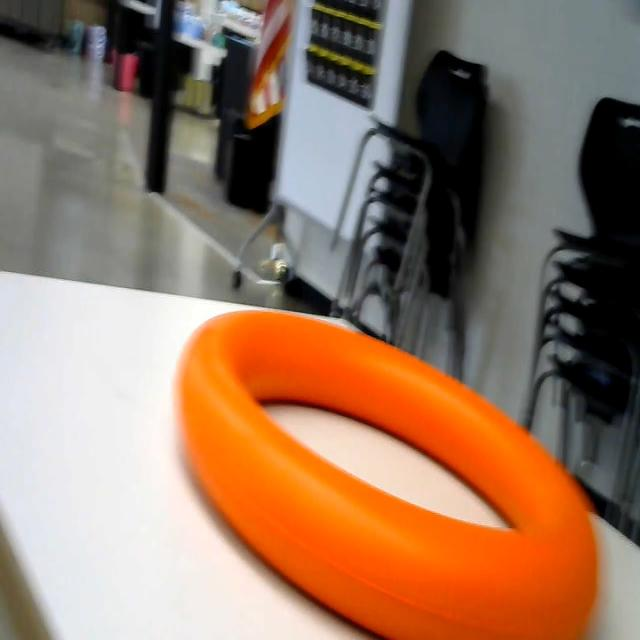note: (152, 260, 640, 640)
